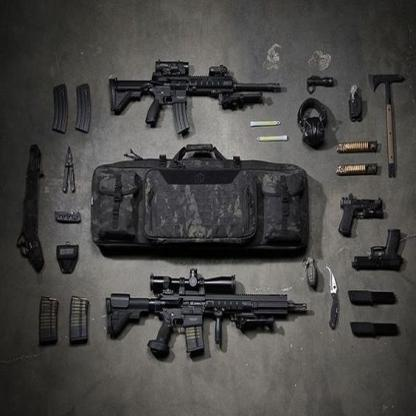Grenade: (305, 255, 319, 288)
Gun: (104, 267, 308, 356), (110, 58, 282, 136)
Knife: (327, 265, 341, 331)
Pistol: (352, 228, 405, 275), (339, 191, 386, 239)
